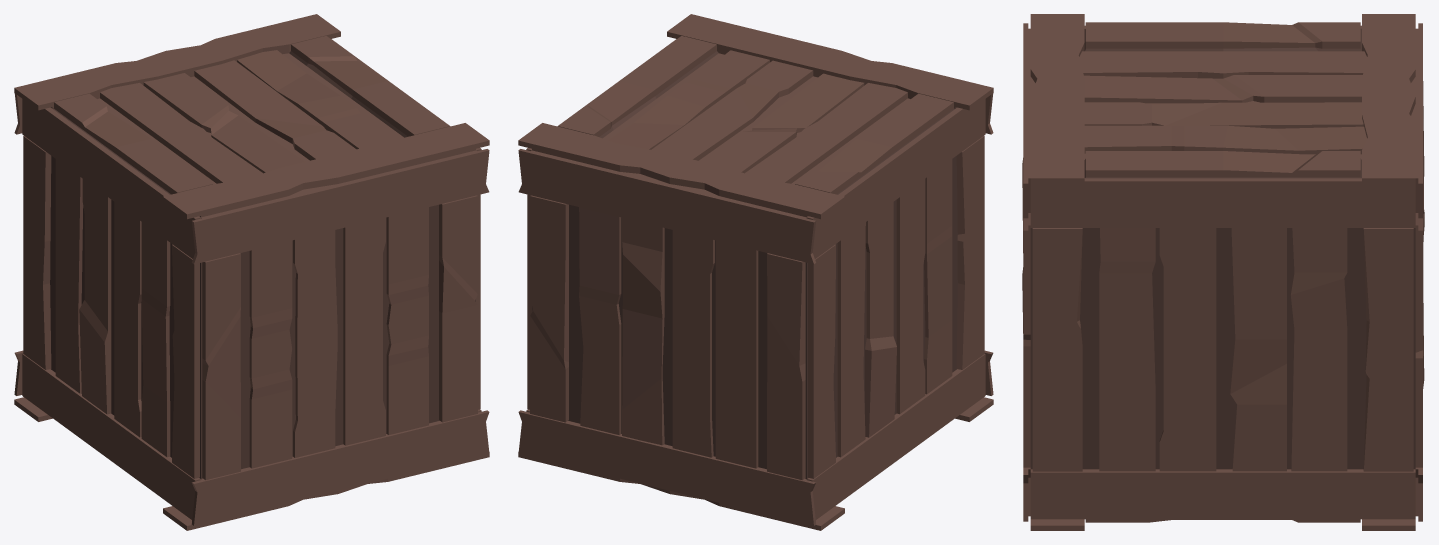
File: chase_crate_2_lev3.glb
3 renders of one model, left to right at view 1: azimuth 30°, elevation 25°; view 2: azimuth 150°, elevation 25°; view 3: azimuth 270°, elevation 25°, orthographic. The views are drawn at different scales.
Visible parts, largest first — view 1: chase_crate_2_lev3; view 2: chase_crate_2_lev3; view 3: chase_crate_2_lev3.
Boxes of the visible parts, bbox=[...] form: chase_crate_2_lev3: bbox=[14, 14, 489, 530]; chase_crate_2_lev3: bbox=[518, 14, 993, 530]; chase_crate_2_lev3: bbox=[1022, 14, 1424, 530].
Size of the model in its own units: 1.89 by 1.89 by 1.95.
